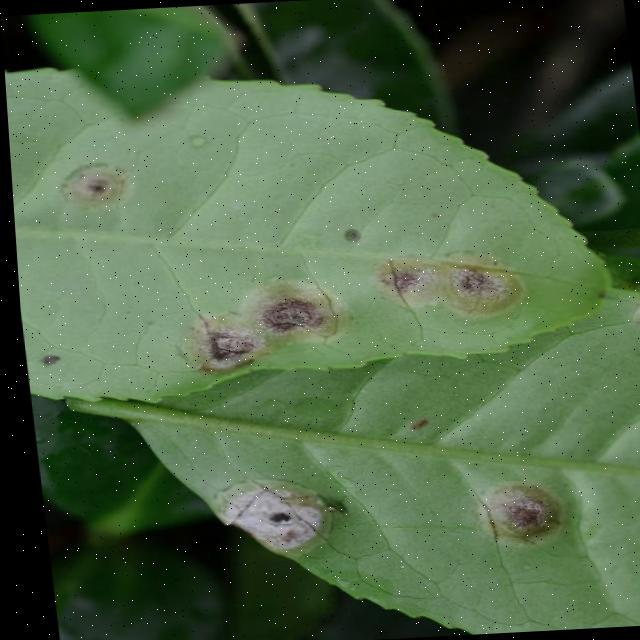Tea cake: (380, 248, 528, 320), (218, 481, 325, 557), (473, 473, 568, 548), (260, 280, 348, 346), (186, 308, 256, 379), (66, 160, 123, 214)
